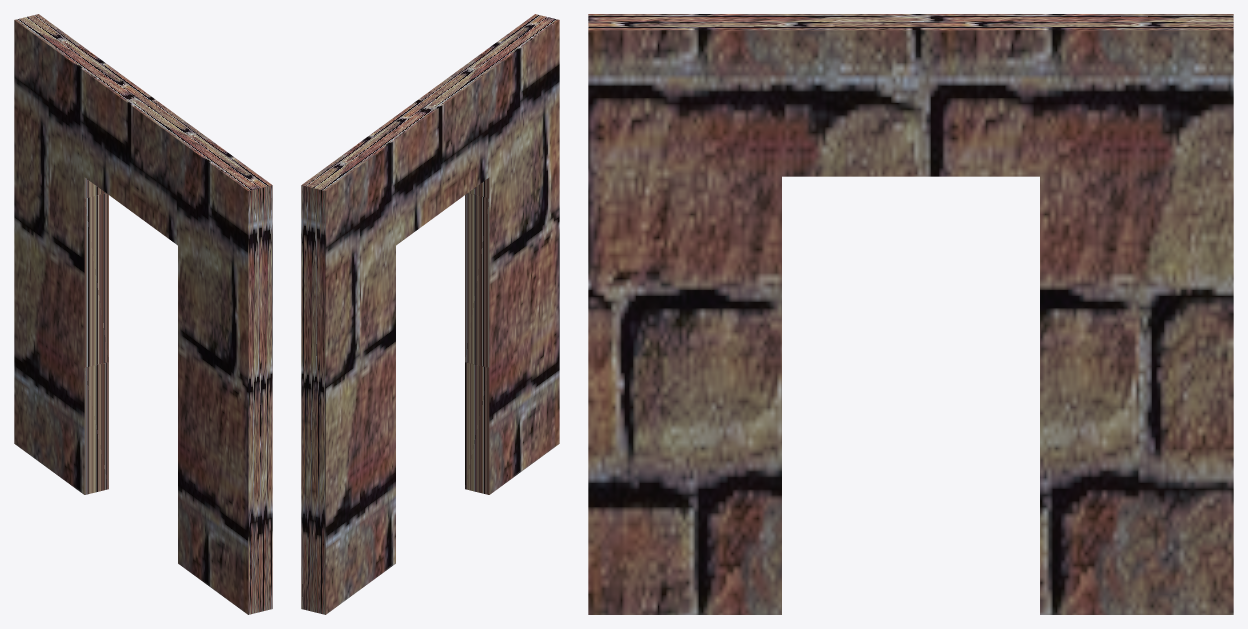
The model's file is WallDoor.glb.
3 renders of one model, left to right at view 1: azimuth 30°, elevation 25°; view 2: azimuth 150°, elevation 25°; view 3: azimuth 270°, elevation 25°, orthographic. The views are drawn at different scales.
Parts seen in each view (by area): view 1: Cube; view 2: Cube; view 3: Cube.
Part boxes in pixels (<box>): Cube: <box>14,14,272,614</box>; Cube: <box>301,14,559,614</box>; Cube: <box>588,14,1233,614</box>.
Size of the model in its own units: 0.6 by 10 by 10.
1 material, 1 textured.
